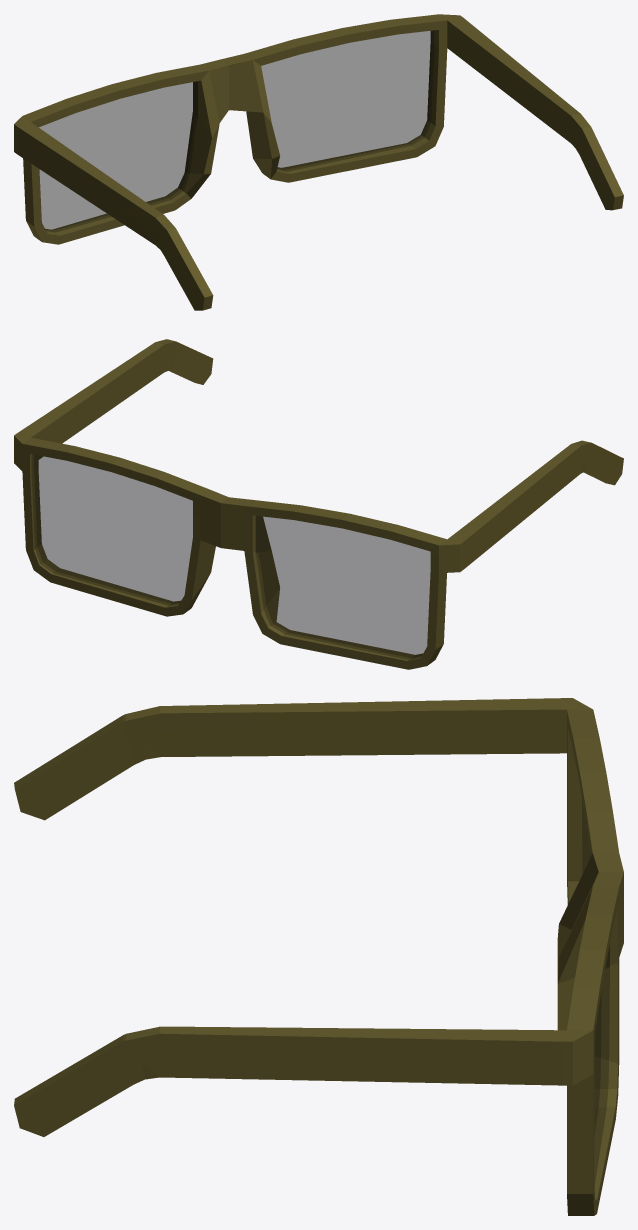
The model's file is gafasamarillas.fbx.
3 views of the same model, one above another, from view 1: azimuth 30°, elevation 25°; view 2: azimuth 150°, elevation 25°; view 3: azimuth 270°, elevation 25° (orthographic). The views are drawn at different scales.
Parts seen in each view (by area): view 1: Sunglasses_Cube.001; view 2: Sunglasses_Cube.001; view 3: Sunglasses_Cube.001.
Part boxes in pixels (x1,y1,x2,y2): Sunglasses_Cube.001: [14, 14, 623, 310]; Sunglasses_Cube.001: [14, 339, 623, 669]; Sunglasses_Cube.001: [14, 698, 623, 1215].
Size of the model in its own units: 80.79 by 23.61 by 60.61.
